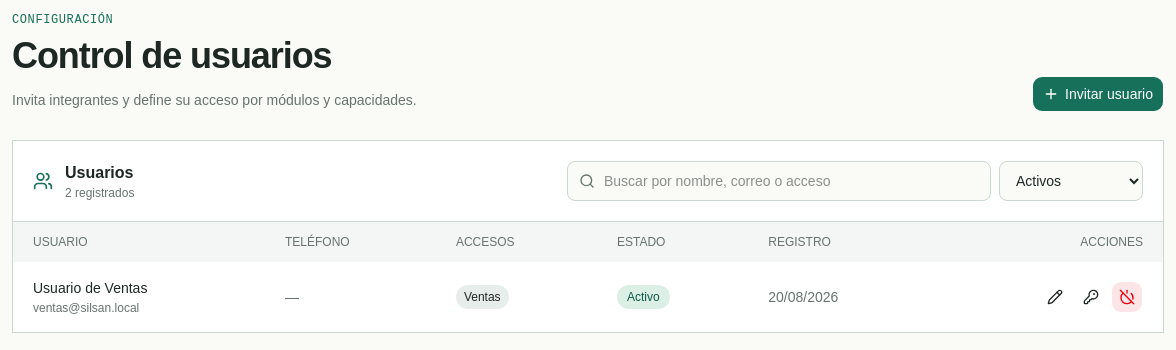
it: UsersPage › muestra activos por defecto y permite consultar inactivos
Select "Inactivos" in the dropdown named "Filtrar por estado". click: (1071, 181)
box: [999,161,1143,201]
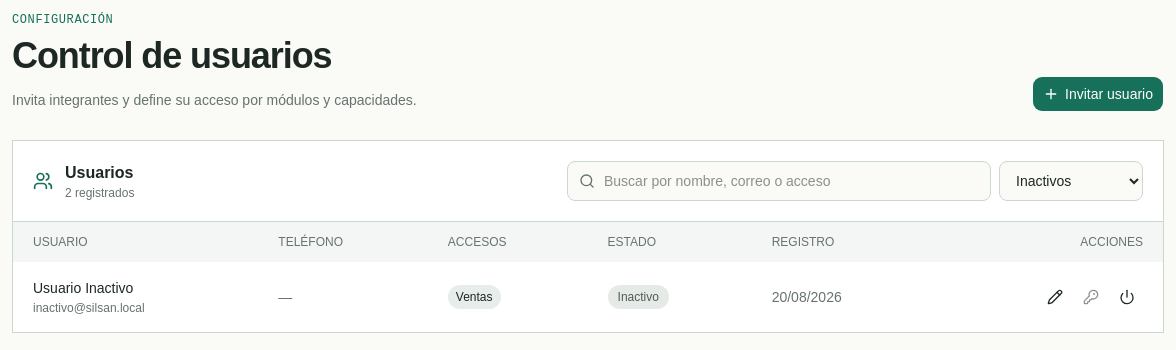
Expected: the text "Usuario de Ventas" is not shown
